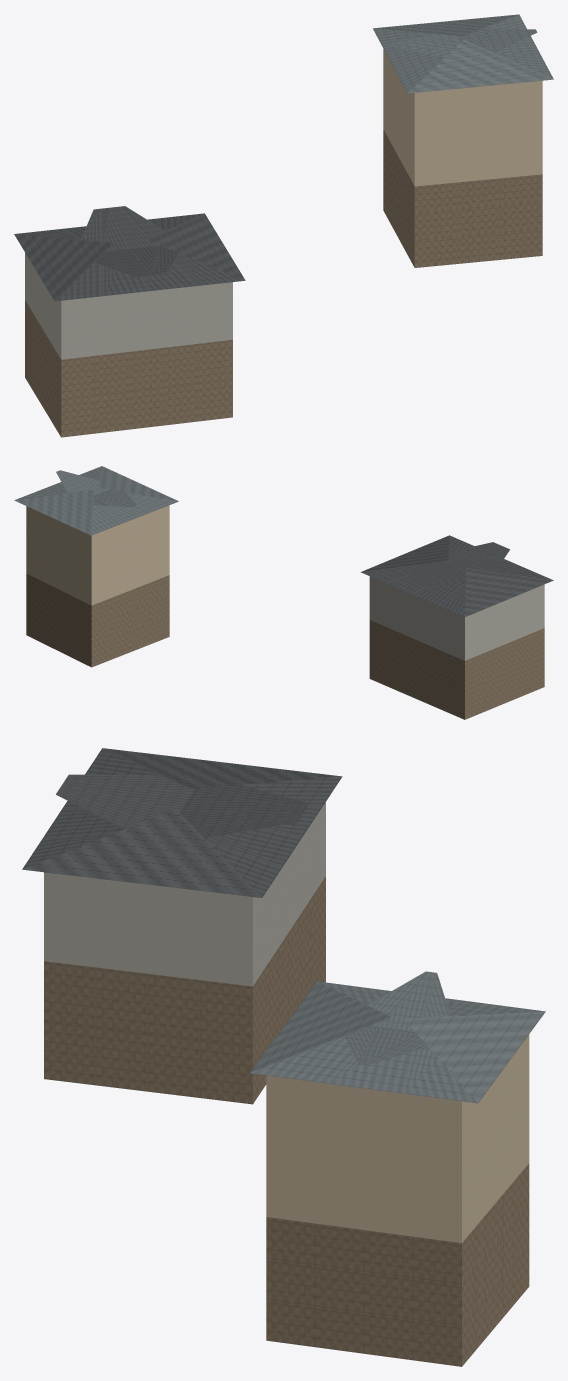
File: bld_c8_7_501.gltf
3 renders of one model, top to bottom at view 1: azimuth 30°, elevation 25°; view 2: azimuth 150°, elevation 25°; view 3: azimuth 270°, elevation 25°, orthographic. The views are drawn at different scales.
Parts seen in each view (by area): view 1: bld_c8_7_501; view 2: bld_c8_7_501; view 3: bld_c8_7_501.
Boxes of the visible parts, <box> form: bld_c8_7_501: <box>14,14,553,437</box>; bld_c8_7_501: <box>14,466,553,719</box>; bld_c8_7_501: <box>22,748,545,1366</box>.
Size of the model in its own units: 38.51 by 13.1 by 19.59.
Materials: 5 (5 with a texture image).
